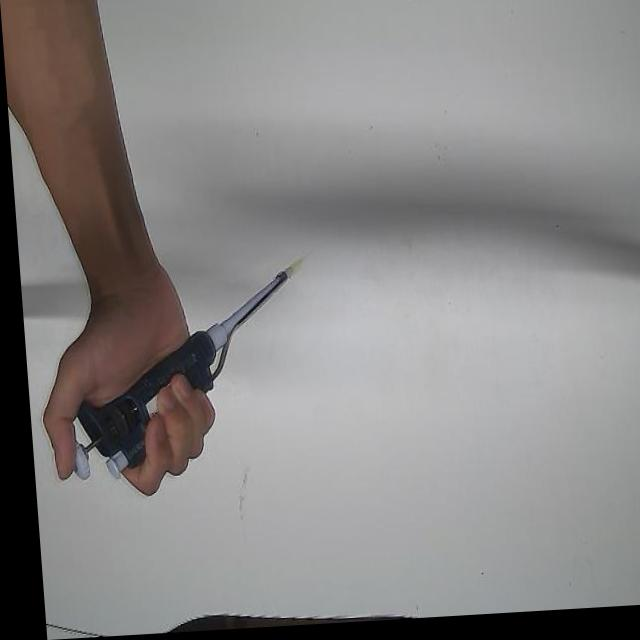Single Channel Pipettor: (50, 267, 302, 484)
